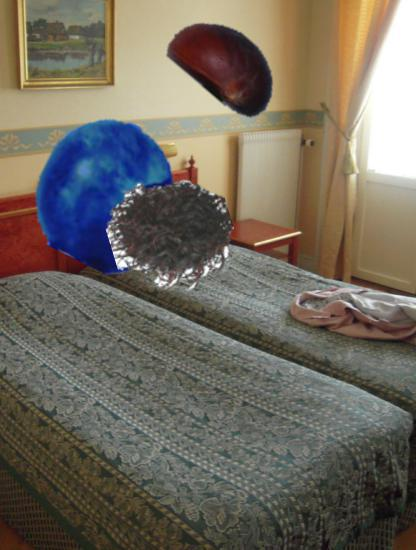Chestnut: (167, 4, 287, 124)
Huckleberry: (37, 121, 185, 269)
Rambutan: (110, 173, 233, 296)
